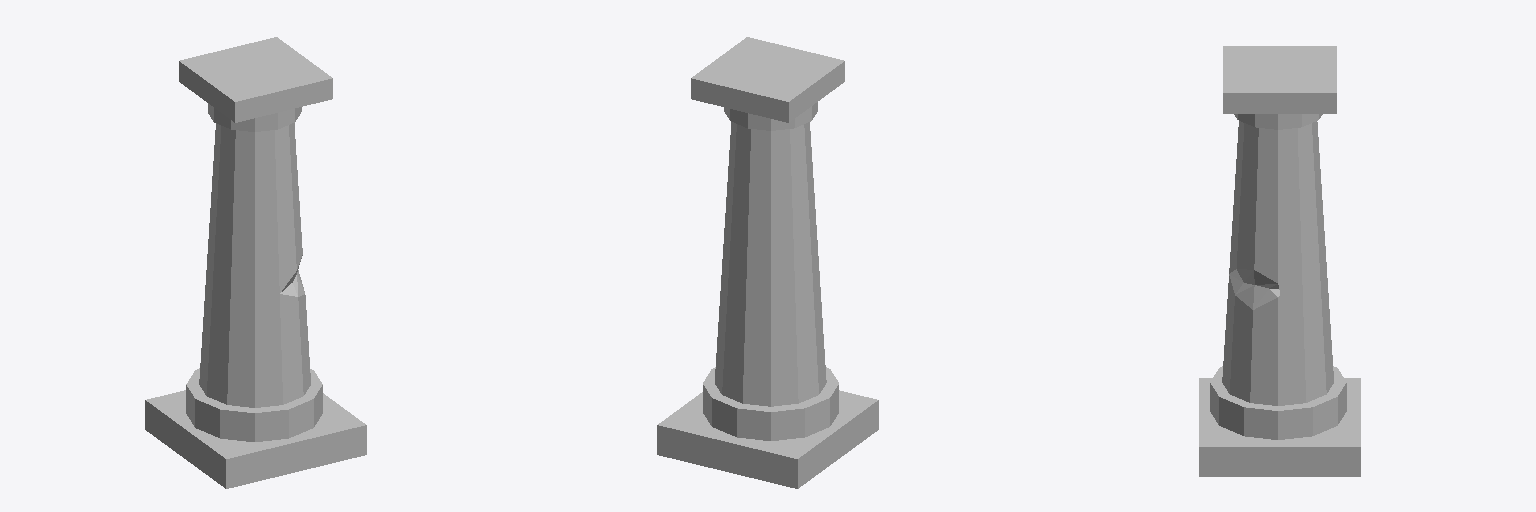
Rendered from col_5.obj.
3 renders of one model, left to right at view 1: azimuth 30°, elevation 25°; view 2: azimuth 150°, elevation 25°; view 3: azimuth 270°, elevation 25°, orthographic.
Visible parts, largest first — view 1: column.005_Cylinder.011; view 2: column.005_Cylinder.011; view 3: column.005_Cylinder.011.
Part boxes in pixels (bbox=[...]): column.005_Cylinder.011: bbox=[145, 37, 366, 488]; column.005_Cylinder.011: bbox=[657, 37, 878, 488]; column.005_Cylinder.011: bbox=[1199, 46, 1360, 476].
Bounding box in the file's own units: 5.6 × 14.24 × 5.6.